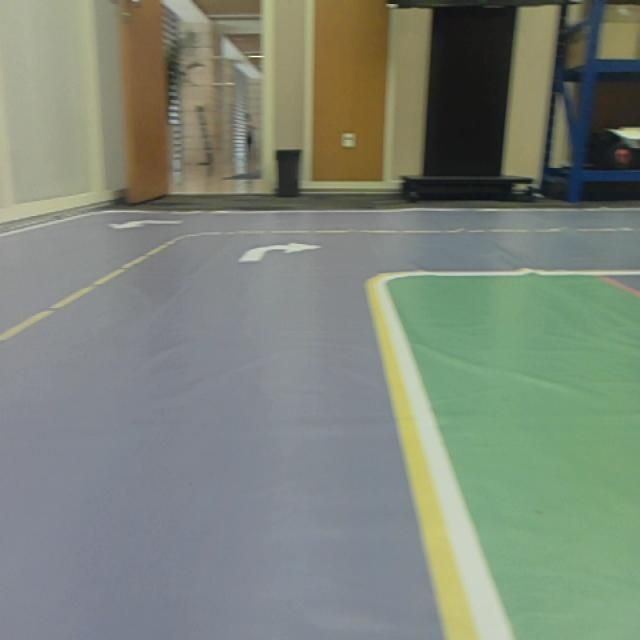left_lane: (0, 237, 175, 344)
right_lane: (363, 287, 479, 639)
